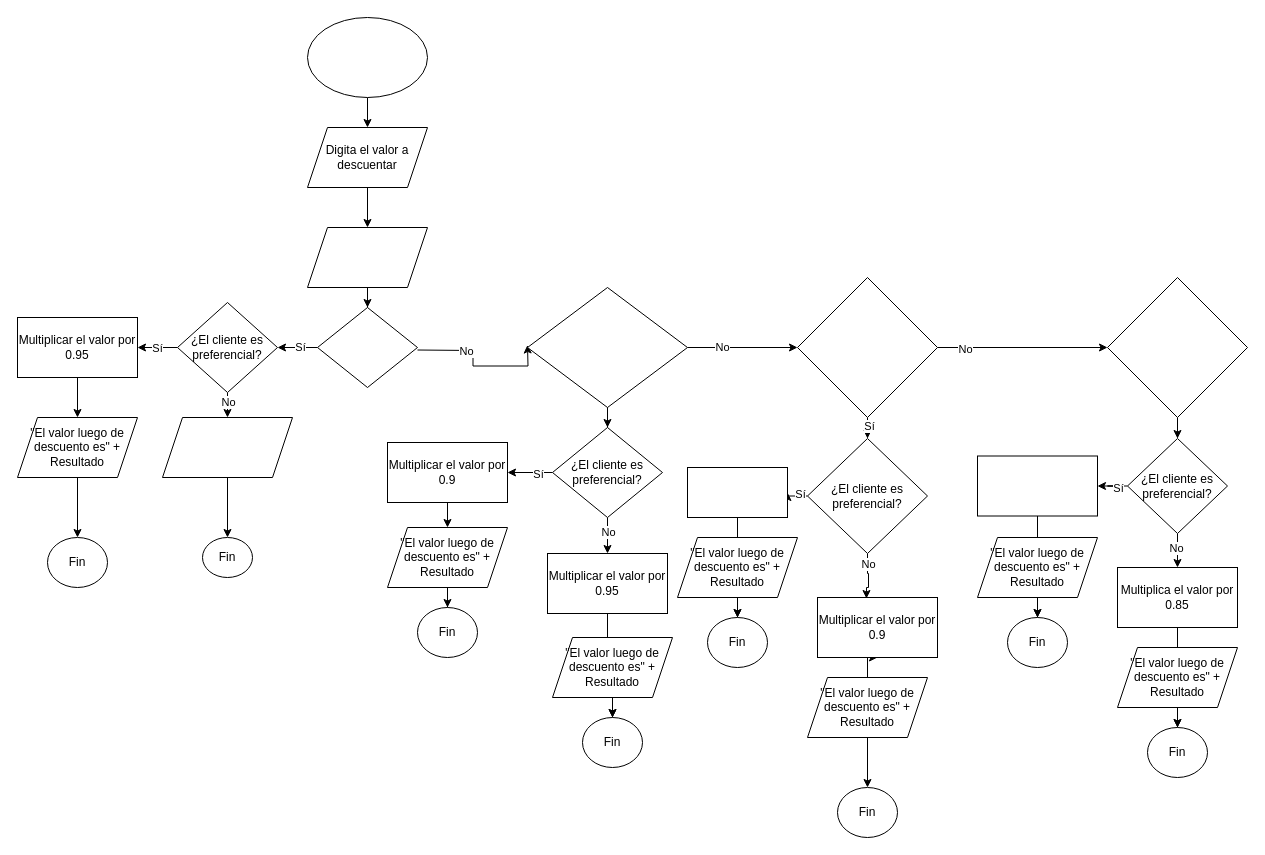
This 1265x855 diagram has some shape labels left out. Here are the shapes that lost their labels. From the top down, the box of each, then its label:
(306, 16, 428, 98): Inicio
(306, 226, 428, 288): Indica si es preferencial ó no
(316, 306, 418, 388): ¿El valor es menor que 10,000?
(526, 286, 688, 408): ¿El valor es mayo r ó igual que 10,000 y menor que 50,000 ?
(796, 276, 938, 418): ¿El valor está entre 50,000 y 100,000?
(1106, 276, 1248, 418): ¿El valor es mayor a 100,000?
(162, 416, 292, 478): "El producto no se puede descuentar"
(686, 466, 788, 518): Multiplicar el valor por 0.85
(976, 455, 1098, 516): Multiplicar el valor por 0.8
